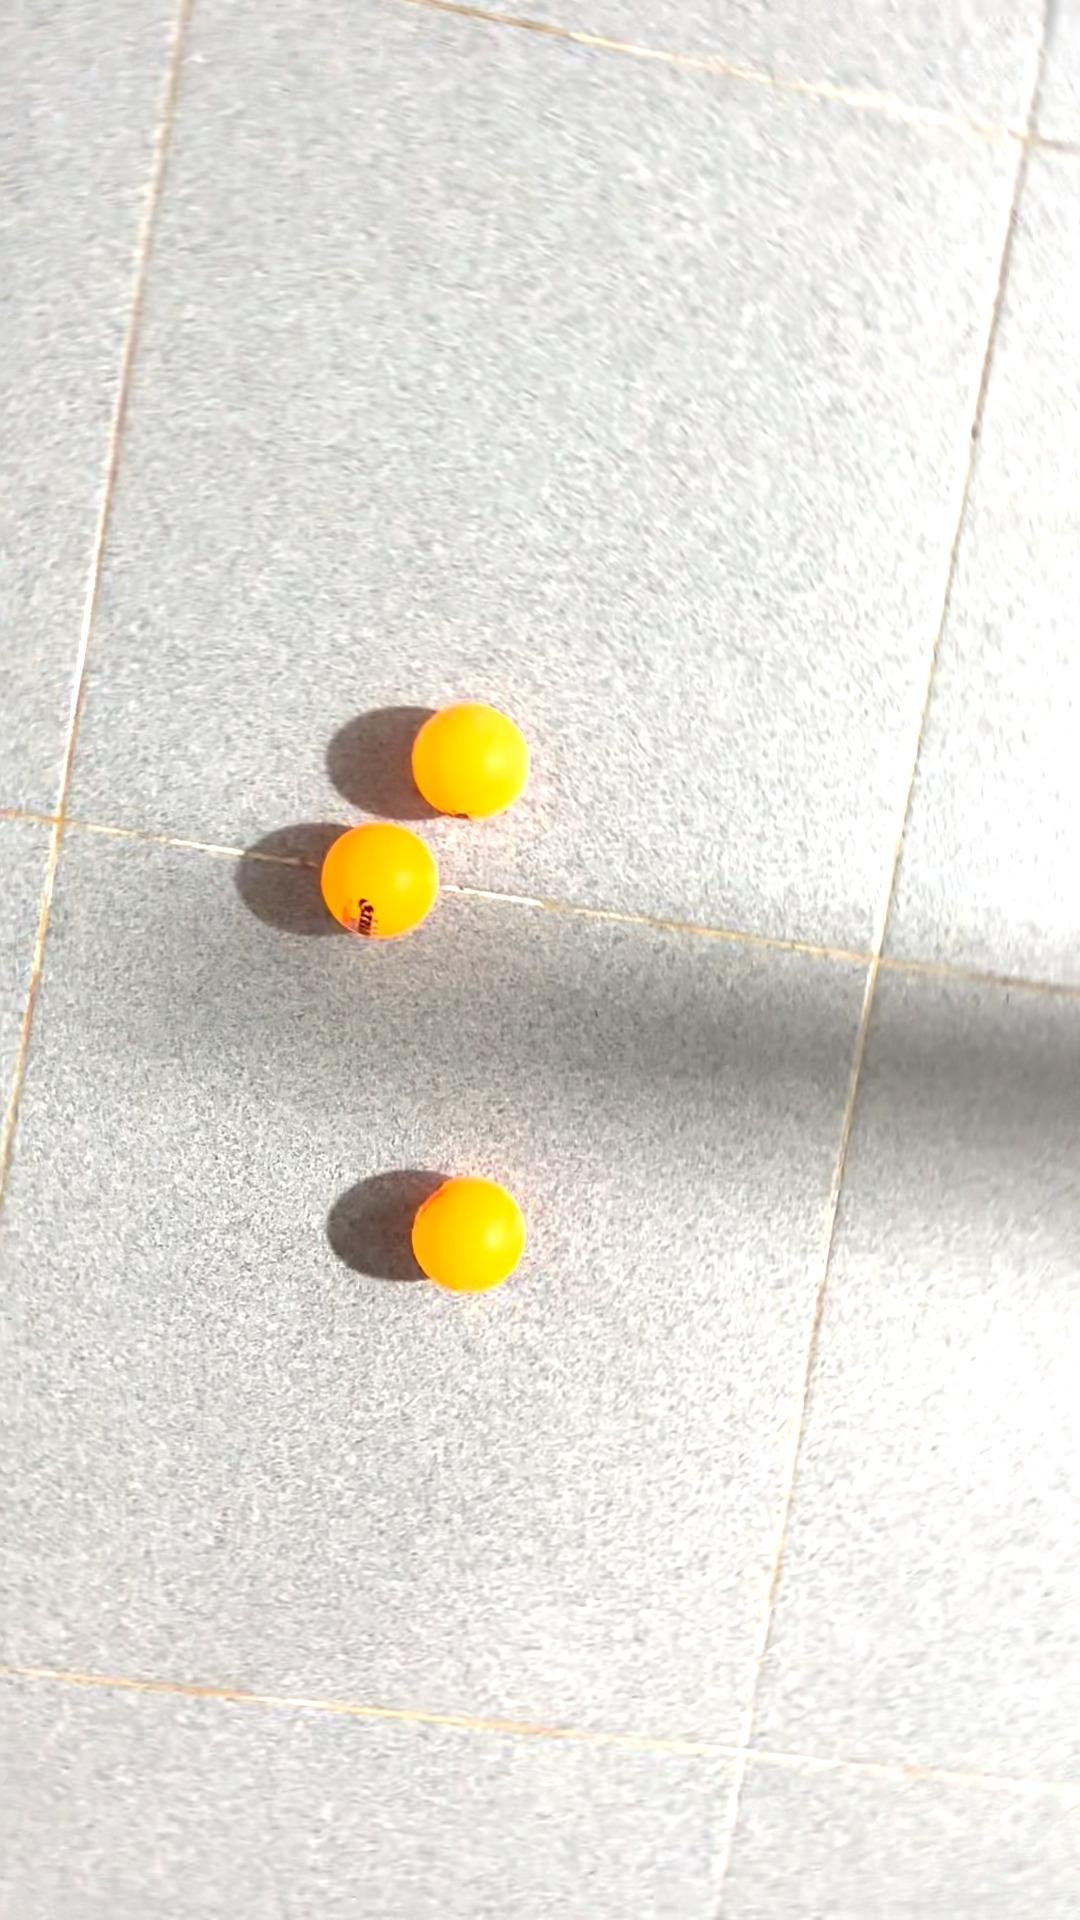oball: (301, 798, 462, 955), (401, 1164, 551, 1308), (407, 684, 549, 837)
